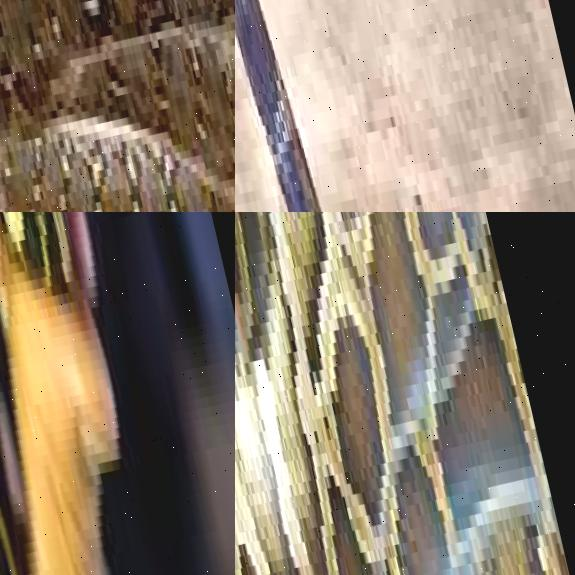3: (0, 0, 235, 212)
5: (235, 0, 511, 212)
snake: (235, 212, 575, 575), (0, 212, 192, 575)
